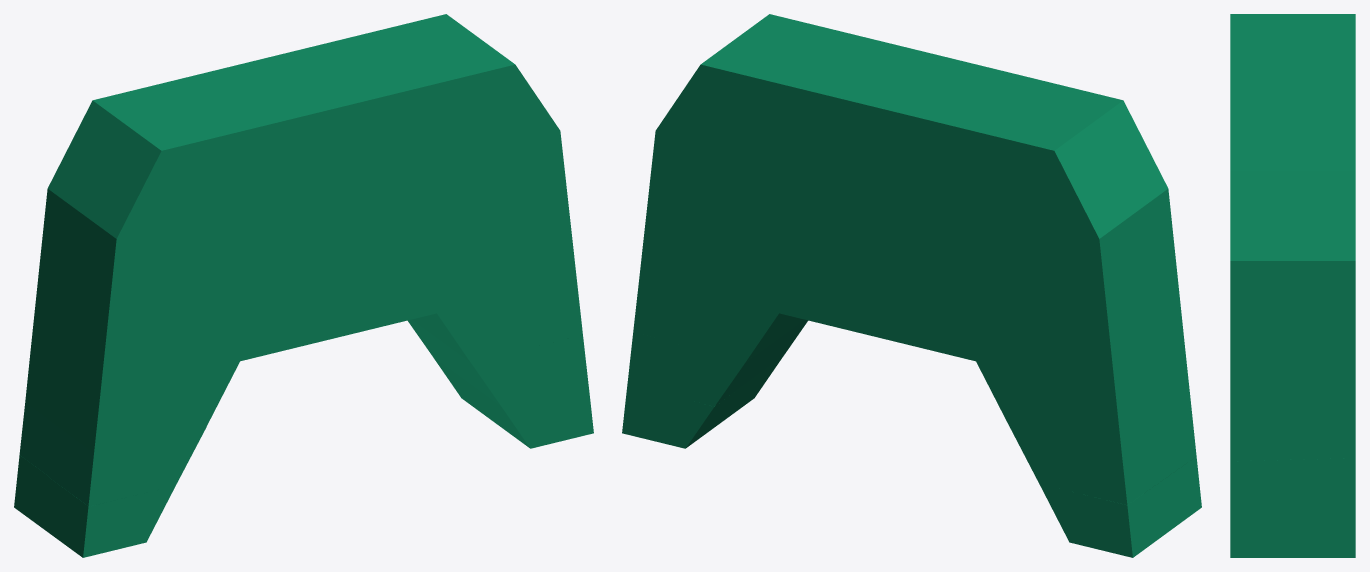
The model's file is Printable.fbx.
3 views of the same model, side by side, from view 1: azimuth 30°, elevation 25°; view 2: azimuth 150°, elevation 25°; view 3: azimuth 270°, elevation 25° (orthographic). The views are drawn at different scales.
Visible parts, largest first — view 1: Base7, Base4, Base3, Base5, Base6, Base2, Base1, Base0; view 2: Base7, Base3, Base4, Base5, Base6, Base2, Base1, Base0; view 3: Base7, Base2, Base4, Base1, Base3, Base6, Base0, Base5.
Part boxes in pixels (x1,y1,x2,y2): Base7: (71, 14, 535, 192); Base4: (36, 177, 571, 343); Base3: (31, 230, 576, 397); Base5: (42, 131, 565, 287); Base6: (47, 95, 560, 238); Base2: (25, 280, 582, 453); Base1: (19, 319, 588, 506); Base0: (14, 357, 593, 557); Base7: (680, 14, 1144, 192); Base3: (639, 231, 1184, 398); Base4: (644, 179, 1179, 342); Base5: (650, 131, 1173, 290); Base6: (655, 95, 1168, 238); Base2: (633, 282, 1190, 452); Base1: (627, 319, 1196, 504); Base0: (622, 357, 1201, 557); Base7: (1230, 14, 1355, 212); Base2: (1230, 407, 1355, 461); Base4: (1230, 307, 1355, 359); Base1: (1230, 458, 1355, 510); Base3: (1230, 358, 1355, 409); Base6: (1230, 212, 1355, 260); Base0: (1230, 509, 1355, 557); Base5: (1230, 261, 1355, 308).
Bounding box in the file's own units: 10.1 × 7.33 × 2.36.
